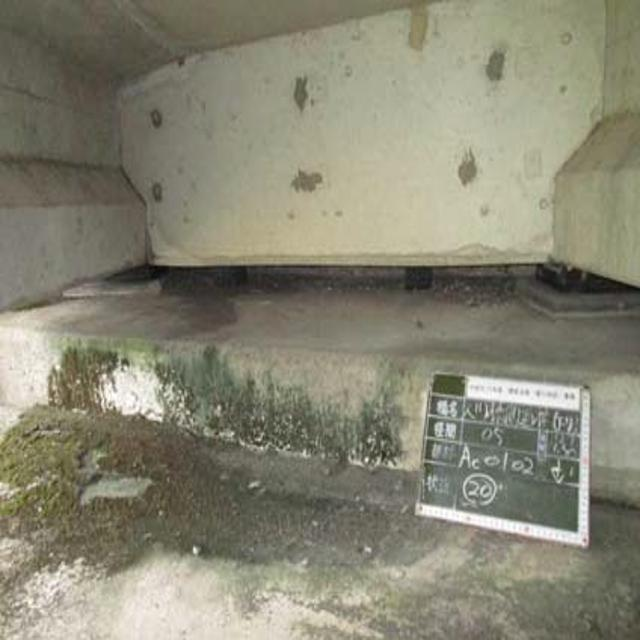leakage: (147, 257, 274, 352)
